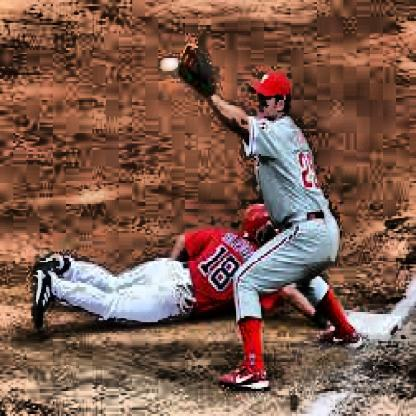baseball: (162, 55, 181, 79)
